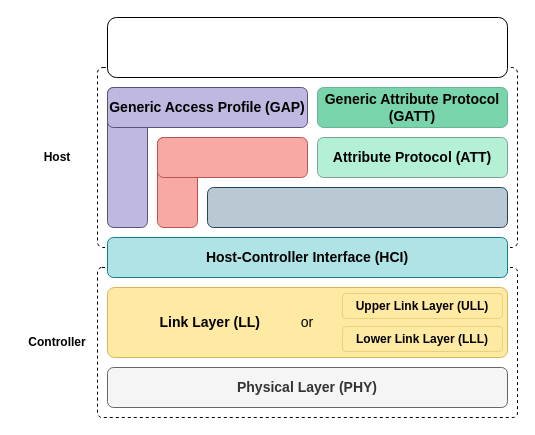
The diagram is 535 pixels wide and 435 high, and some of its shapes have lost their labels. The centre of each missing label's shape, as x and y in pixels:
Application: the point at 307,47
Logical Link Control and Adaption Protocol (L2CAP): the point at 357,207
Security Manager (SM): the point at 232,157
